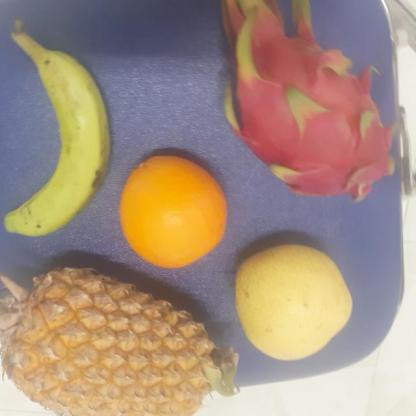banana: (4, 49, 114, 236)
guava: (234, 244, 356, 358), (117, 150, 233, 268)
pear: (117, 154, 232, 267)
pineapple: (0, 260, 229, 416)
pitaya: (216, 5, 400, 198)
